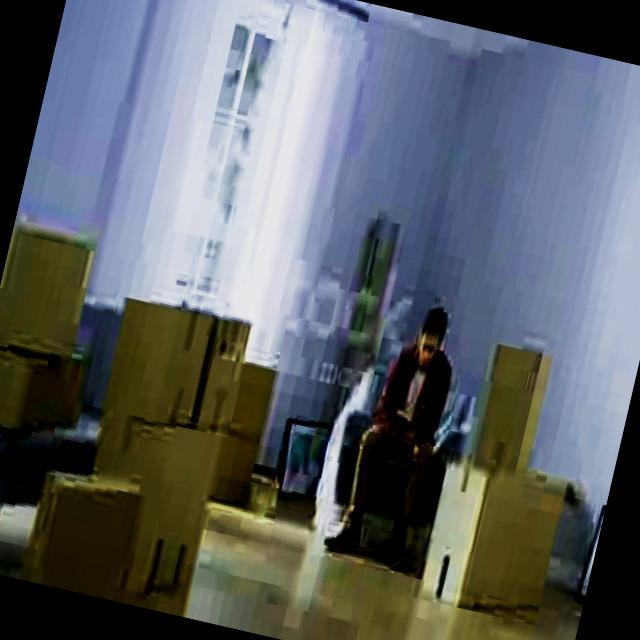Box: (418, 460, 572, 614), (122, 436, 222, 610), (96, 294, 208, 432), (28, 472, 144, 602), (462, 343, 563, 491), (0, 218, 98, 353), (0, 349, 87, 440), (194, 318, 258, 428)
